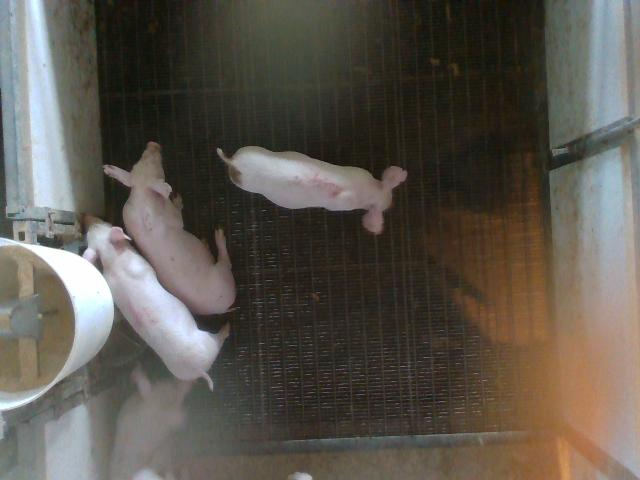pig-4: (84, 222, 229, 386)
pig-5: (218, 146, 408, 234)
